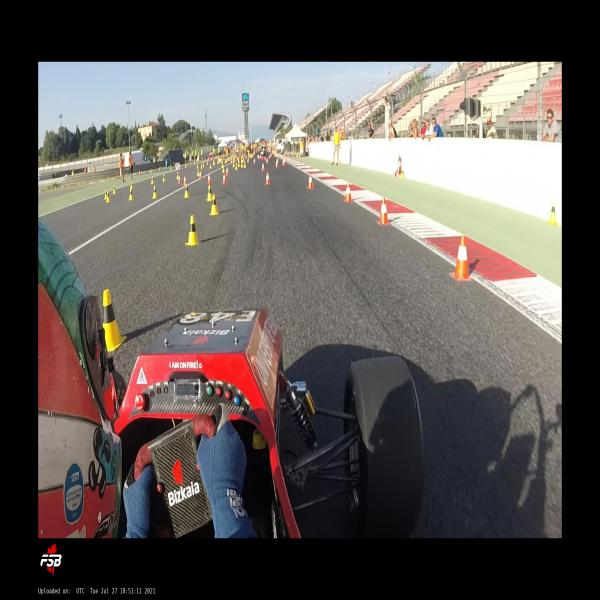orange_cone: (451, 236, 473, 281), (377, 198, 390, 225), (344, 183, 352, 203), (307, 174, 314, 189), (265, 172, 270, 185), (207, 174, 211, 185), (183, 175, 187, 185), (222, 174, 226, 184), (261, 163, 265, 171), (199, 171, 202, 180), (178, 175, 181, 184), (226, 167, 229, 176), (276, 160, 278, 168), (282, 160, 284, 166), (284, 158, 285, 165)
yellow_cone: (103, 290, 127, 352), (185, 215, 200, 245), (209, 194, 219, 215), (548, 203, 557, 225), (206, 185, 212, 201), (184, 184, 190, 198), (152, 186, 157, 199), (128, 189, 133, 201), (105, 191, 110, 203), (112, 185, 116, 194), (400, 170, 404, 179), (104, 189, 107, 200), (150, 176, 154, 184), (130, 181, 133, 189), (162, 174, 165, 182), (222, 165, 225, 173), (176, 172, 179, 179), (235, 163, 238, 170), (197, 168, 199, 177), (241, 161, 243, 168), (244, 162, 246, 168), (238, 161, 240, 167), (232, 161, 234, 167)
